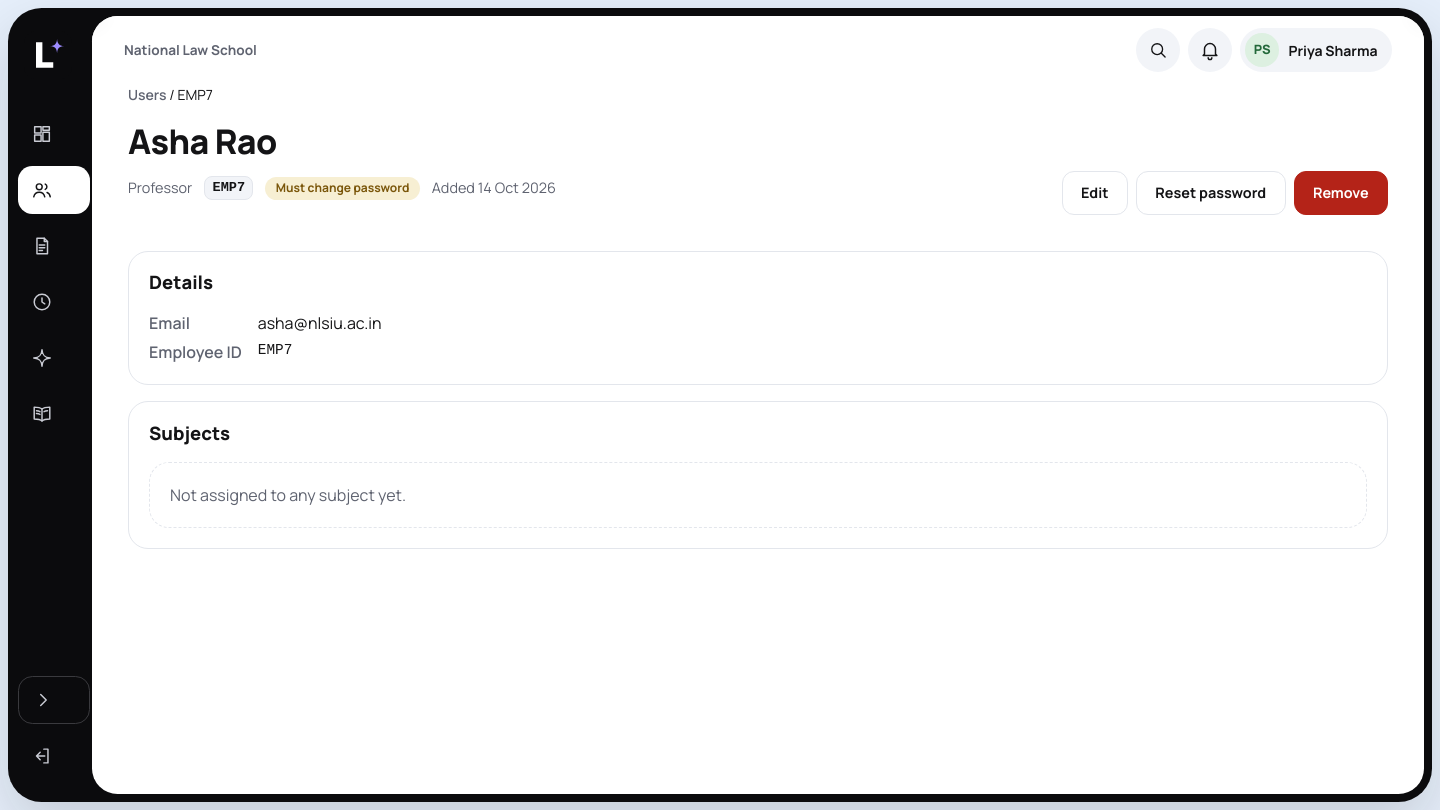
Test: remove user › explains what happens to a professor’s assessments
Click the button "Remove" at [1341, 193], box x1=1294 y1=171 x2=1388 y2=215
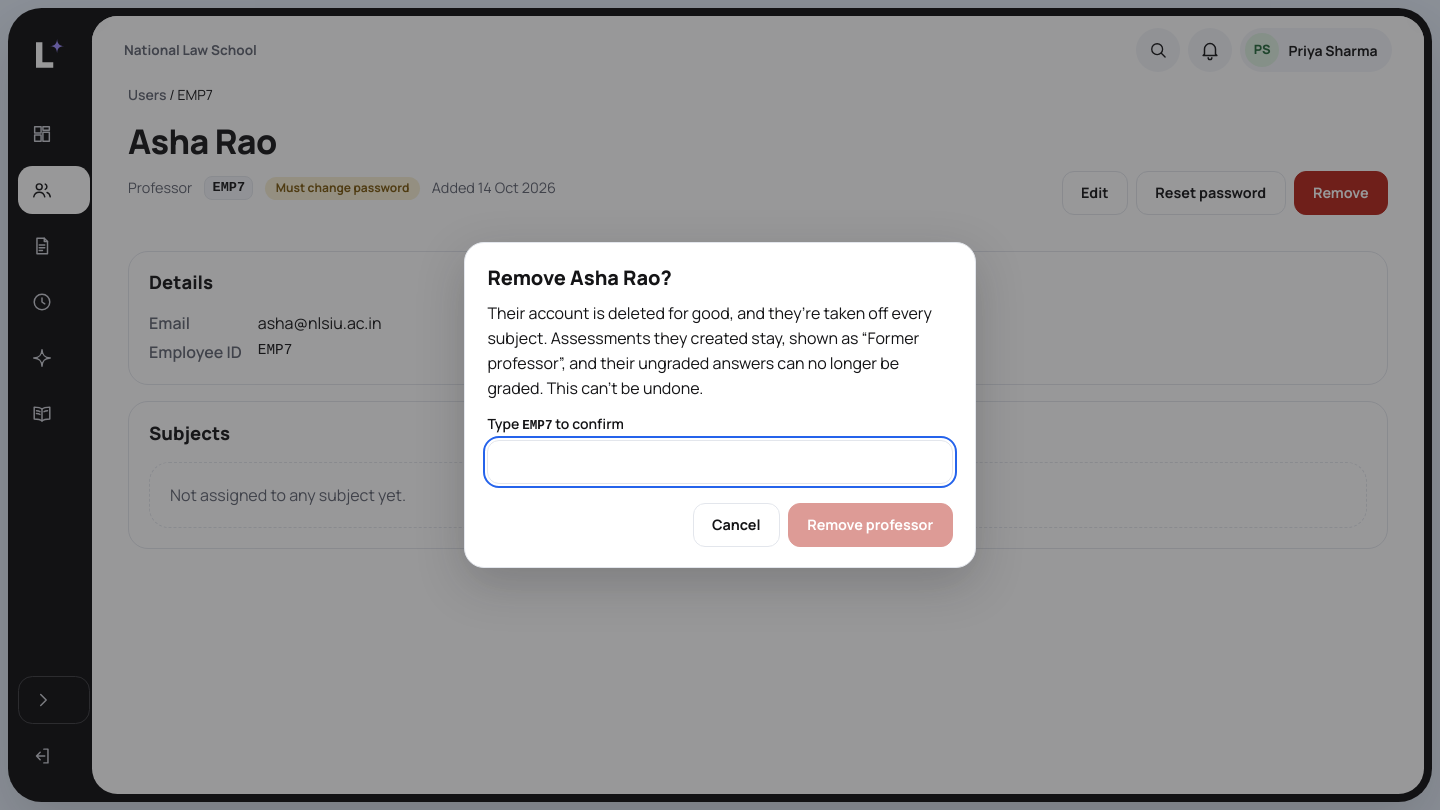
Check: the text "shown as “Former professor”" is shown, box x1=487 y1=302 x2=932 y2=399
Check: the button "Remove professor" is disabled, box x1=788 y1=503 x2=953 y2=547
